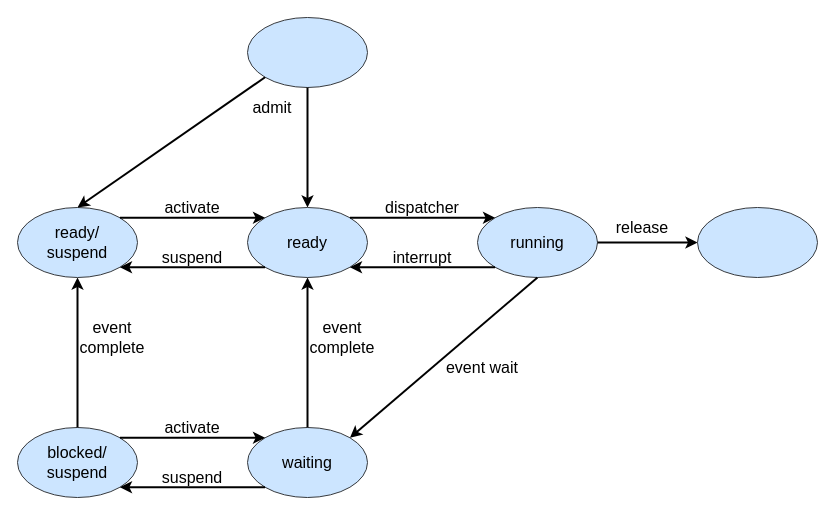
This 835x515 diagram has some shape labels left out. The shapes that lost their labels are listed below. From the top down, each one's centre as x and y in pixels, then its label:
point 307,52: new
point 757,242: terminated
